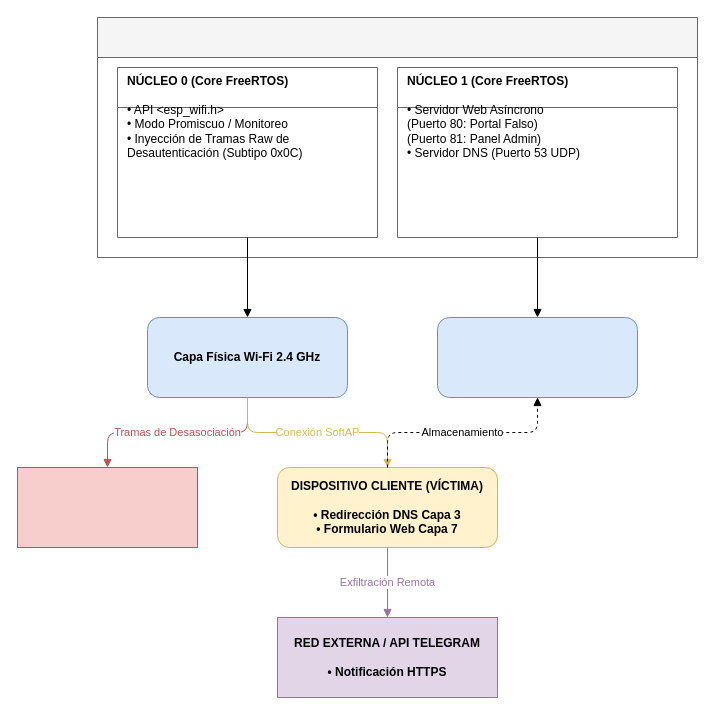
Image size: 715x715. Some labels were removed from this diagram. Each missing label, with the box of its shape:
ENRUTADOR OBJETIVO (PyME: Router Wi-Fi): (16, 466, 198, 548)
FIRMWARE ESP32 (Entorno: IDE de Arduino): (96, 16, 698, 258)
Memoria Flash SPIFFS / FS.h • Archivos HTML/CSS • Registro log.txt: (436, 316, 638, 398)
